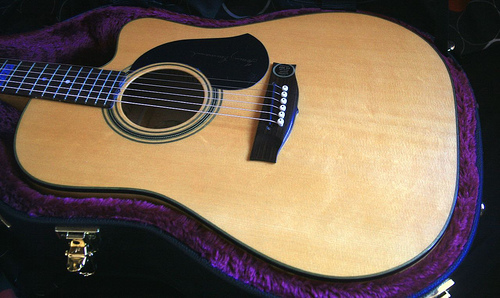guitar: (1, 11, 462, 284)
